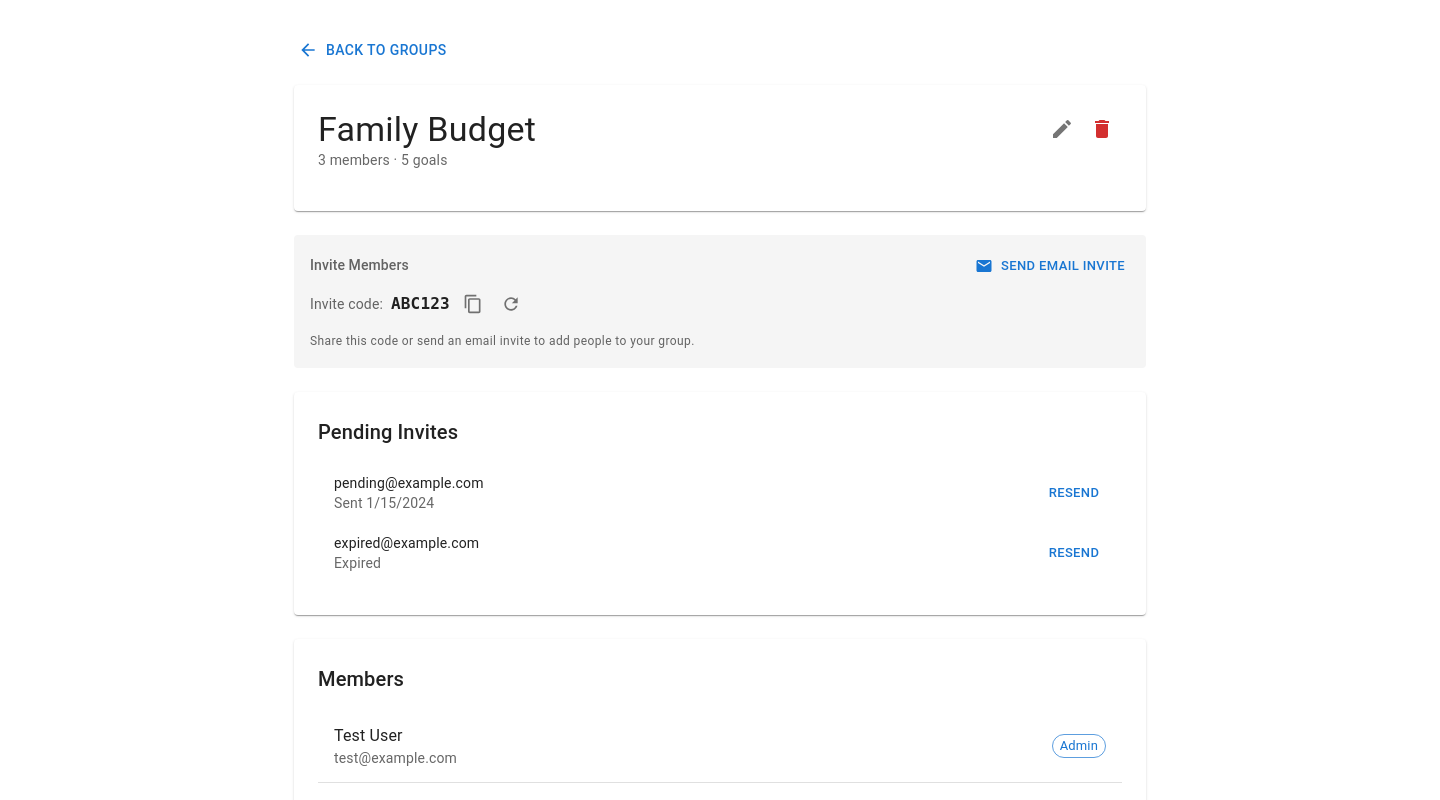
GroupDetail › when logged in as admin › email invites › opens invite dialog when button clicked
The width and height of the screenshot is (1440, 800).
Step 1. Click the button "Send Email Invite" → (1051, 266), box [972,250,1130,281]
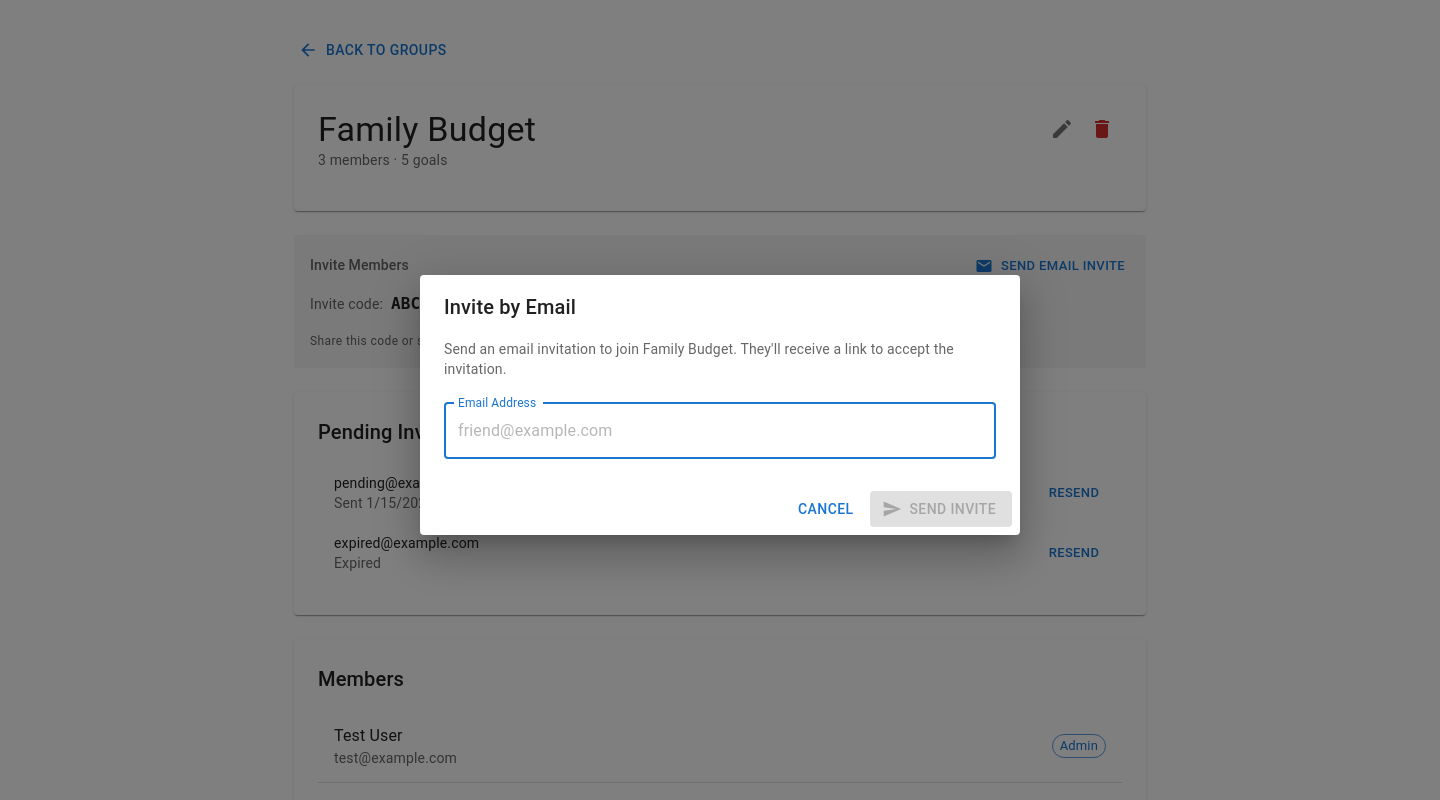
Result: the heading "Invite by Email" is shown at [444,295,576,319]
